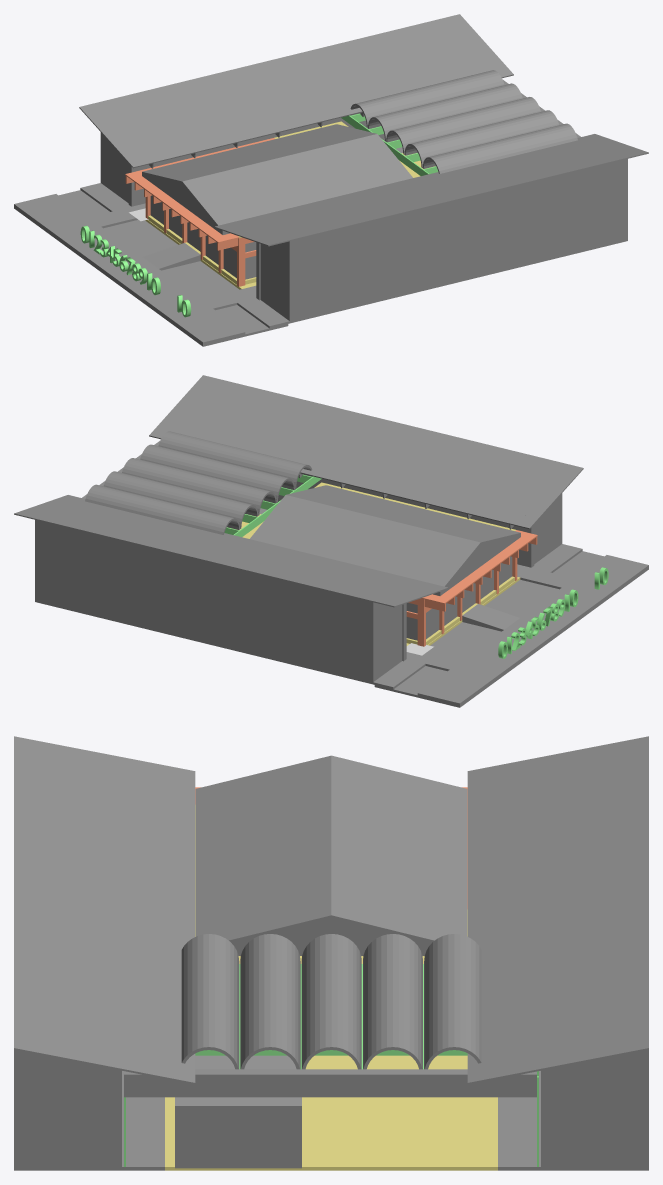
3 renders of one model, top to bottom at view 1: azimuth 30°, elevation 25°; view 2: azimuth 150°, elevation 25°; view 3: azimuth 270°, elevation 25°, orthographic. The views are drawn at different scales.
Visible parts, largest first — view 1: floor.007, existing roof side, Plane.022, Plane.042, exist-road, existing roof side.001, Plane.034, exist-demo-floor, existing truss roof3, Plane.039, exist-con-column01, existing column (+2 smaller); view 2: floor.007, existing roof side, Plane.022, Plane.042, exist-road, existing roof side.001, Plane.034, exist-demo-floor, existing truss roof3, Plane.039, exist-con-column01, existing column (+3 smaller); view 3: existing roof side, Plane.022, Plane.042, floor.007, floor 1st structure.001, existing roof side.001, Plane.038, Plane.037, existing column, existing truss roof3.
Boxes of the visible parts, bbox=[...] form: floor.007: bbox=[80, 117, 627, 328]; existing roof side: bbox=[79, 14, 648, 248]; Plane.022: bbox=[142, 124, 412, 234]; Plane.042: bbox=[350, 70, 577, 173]; exist-road: bbox=[14, 190, 288, 346]; existing roof side.001: bbox=[124, 64, 603, 230]; Plane.034: bbox=[150, 195, 256, 279]; exist-demo-floor: bbox=[125, 138, 274, 243]; existing truss roof3: bbox=[341, 113, 438, 175]; Plane.039: bbox=[143, 243, 200, 270]; exist-con-column01: bbox=[145, 196, 245, 286]; existing column: bbox=[128, 119, 386, 300]; floor.007: bbox=[35, 478, 582, 689]; existing roof side: bbox=[14, 375, 583, 609]; Plane.022: bbox=[250, 485, 520, 595]; Plane.042: bbox=[85, 431, 312, 534]; exist-road: bbox=[374, 551, 648, 707]; existing roof side.001: bbox=[59, 425, 538, 591]; Plane.034: bbox=[406, 556, 512, 640]; exist-demo-floor: bbox=[421, 530, 537, 604]; existing truss roof3: bbox=[224, 474, 321, 536]; Plane.039: bbox=[462, 604, 519, 631]; exist-con-column01: bbox=[417, 557, 517, 646]; existing column: bbox=[276, 480, 534, 661]; existing roof side: bbox=[14, 736, 648, 1078]; Plane.022: bbox=[195, 755, 467, 955]; Plane.042: bbox=[181, 934, 481, 1069]; floor.007: bbox=[14, 1050, 648, 1170]; floor 1st structure.001: bbox=[165, 1055, 497, 1170]; existing roof side.001: bbox=[165, 765, 497, 1084]; Plane.038: bbox=[124, 1069, 536, 1097]; Plane.037: bbox=[175, 1055, 301, 1168]; existing column: bbox=[111, 1069, 551, 1167]; existing truss roof3: bbox=[124, 964, 538, 1166].
Size of what is drawn, in the model's own units: 42.3 by 7.76 by 31.07.
